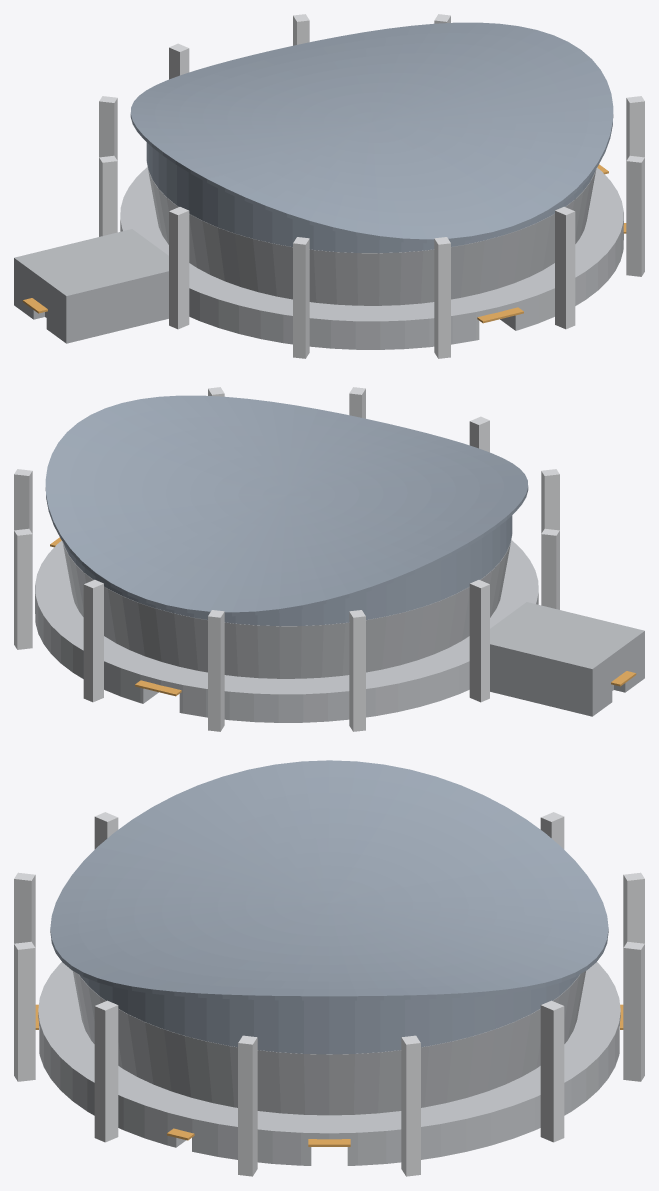
Rendered from arena.example.glb.
The picture shows the model from 3 angles, top to bottom: view 1: azimuth 30°, elevation 25°; view 2: azimuth 150°, elevation 25°; view 3: azimuth 270°, elevation 25°; orthographic projection. The views are drawn at different scales.
Visible parts, largest first — view 1: roof, ring, wing_west, level_2, level_1, pylon_06, pylon_09, pylon_05, pylon_08, pylon_07, pylon_10, pylon_04 (+3 smaller); view 2: roof, ring, wing_west, level_2, level_1, pylon_01, pylon_10, pylon_02, pylon_11, pylon_12, pylon_09, pylon_03 (+3 smaller); view 3: roof, ring, level_2, level_1, pylon_02, pylon_05, pylon_01, pylon_06, pylon_03, pylon_04, pylon_07, pylon_12 (+2 smaller).
Boxes of the visible parts, box(x1,y1,x2,y2) form: roof: box(130, 22, 613, 253); ring: box(120, 167, 623, 349); wing_west: box(14, 229, 168, 343); level_2: box(146, 161, 596, 279); level_1: box(153, 195, 591, 305); pylon_06: box(555, 206, 575, 329); pylon_09: box(169, 207, 189, 329); pylon_05: box(626, 155, 644, 276); pylon_08: box(293, 237, 309, 358); pylon_07: box(434, 237, 450, 358); pylon_10: box(99, 155, 117, 236); pylon_04: box(626, 96, 644, 160); roof: box(45, 395, 528, 626); ring: box(35, 540, 538, 722); wing_west: box(490, 602, 644, 716); level_2: box(62, 534, 512, 652); level_1: box(67, 568, 505, 678); pylon_01: box(83, 579, 103, 702); pylon_10: box(469, 580, 489, 702); pylon_02: box(14, 528, 32, 649); pylon_11: box(349, 610, 365, 731); pylon_12: box(208, 610, 224, 731); pylon_09: box(541, 528, 559, 609); pylon_03: box(14, 469, 32, 533); roof: box(50, 760, 608, 1054); ring: box(38, 962, 620, 1165); level_2: box(73, 971, 585, 1084); level_1: box(76, 989, 582, 1115); pylon_02: box(540, 1000, 564, 1142); pylon_05: box(94, 1000, 118, 1142); pylon_01: box(623, 941, 644, 1081); pylon_06: box(14, 941, 35, 1081); pylon_03: box(401, 1035, 420, 1176); pylon_04: box(238, 1035, 257, 1176); pylon_07: box(14, 872, 35, 947); pylon_12: box(623, 872, 644, 947).
Size of the model in its own units: 127 by 30 by 104.
